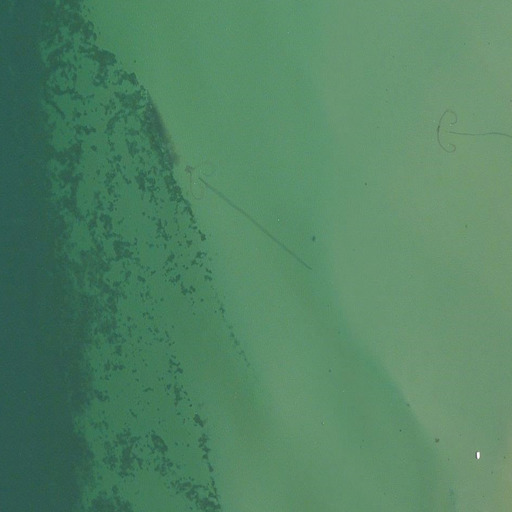ship: (475, 450, 482, 459)
